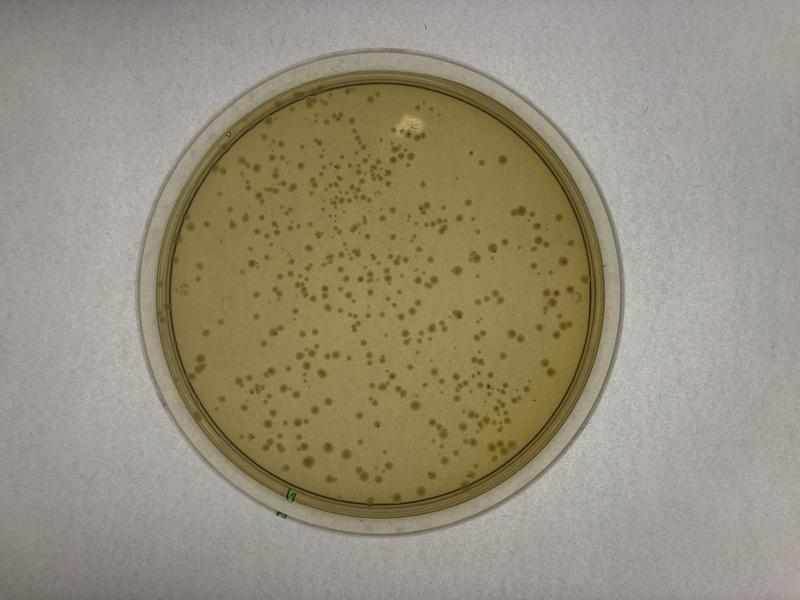colony: (494, 348, 515, 366), (493, 146, 510, 168), (299, 454, 319, 472), (555, 250, 573, 270), (313, 365, 331, 385), (337, 444, 355, 462), (416, 175, 432, 193), (318, 438, 334, 456), (552, 208, 568, 225), (194, 324, 212, 339), (256, 415, 274, 430), (461, 193, 477, 209), (319, 392, 335, 408), (351, 406, 366, 423), (406, 398, 423, 413), (246, 287, 263, 301), (299, 241, 316, 255), (503, 324, 516, 342), (423, 251, 438, 265), (452, 209, 465, 225), (499, 233, 511, 250), (193, 257, 207, 271), (475, 155, 487, 170), (294, 159, 307, 172), (249, 309, 262, 321), (356, 336, 370, 347), (215, 316, 229, 326)
